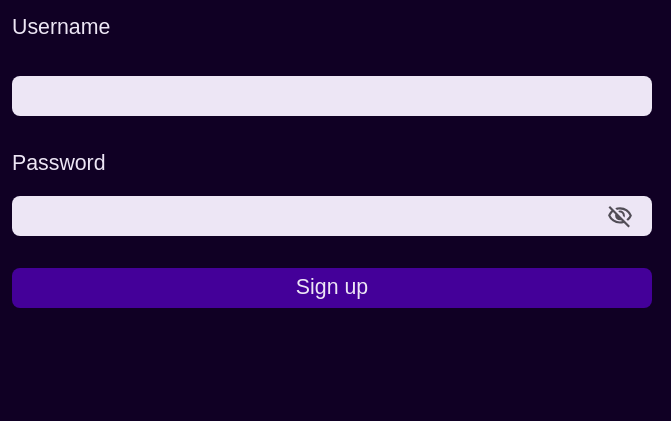
Scenario: Render signup page › Form submission failed if password is less than 8 characters
The width and height of the screenshot is (671, 421).
Type "1234567" into the password field with test id "password" at point(332, 216), box [12,196,652,236]
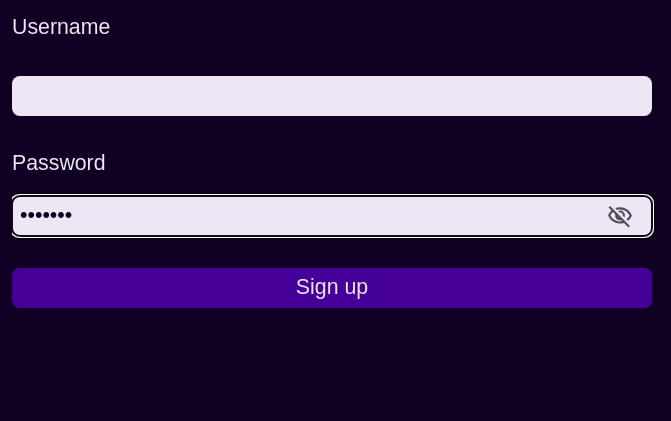
Click the button "Sign up" at point(332, 288), box [12,268,652,308]
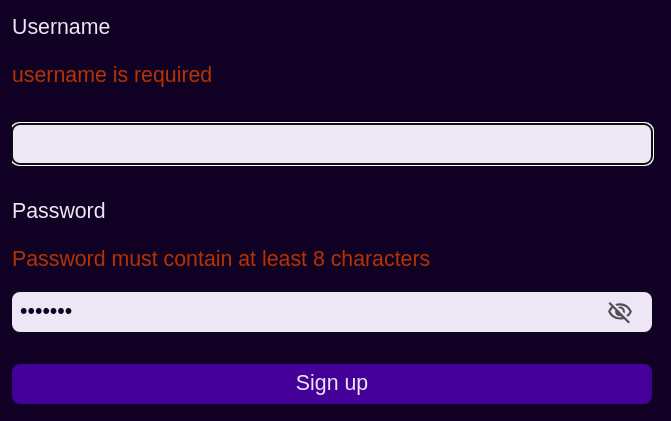
Expected: the text with test id "rfh-password-err" reads "Password must contain at least 8 characters", [12,247,430,271]
